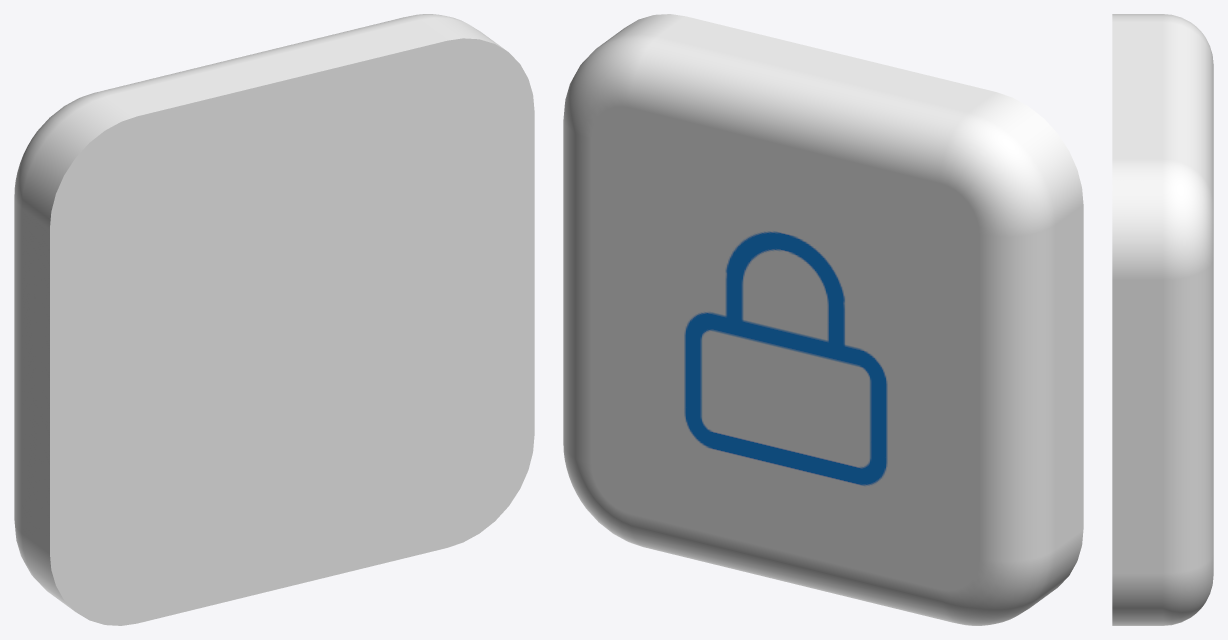
Rendered from unlock.fbx.
3 views of the same model, side by side, from view 1: azimuth 30°, elevation 25°; view 2: azimuth 150°, elevation 25°; view 3: azimuth 270°, elevation 25° (orthographic). The views are drawn at different scales.
Parts seen in each view (by area): view 1: Unlock; view 2: Unlock; view 3: Unlock.
Part boxes in pixels (box(x1,y1,x2,y2)): Unlock: box(14, 14, 534, 625); Unlock: box(563, 14, 1083, 625); Unlock: box(1112, 14, 1213, 625).
Bounding box in the file's own units: 500 × 500 × 100.
